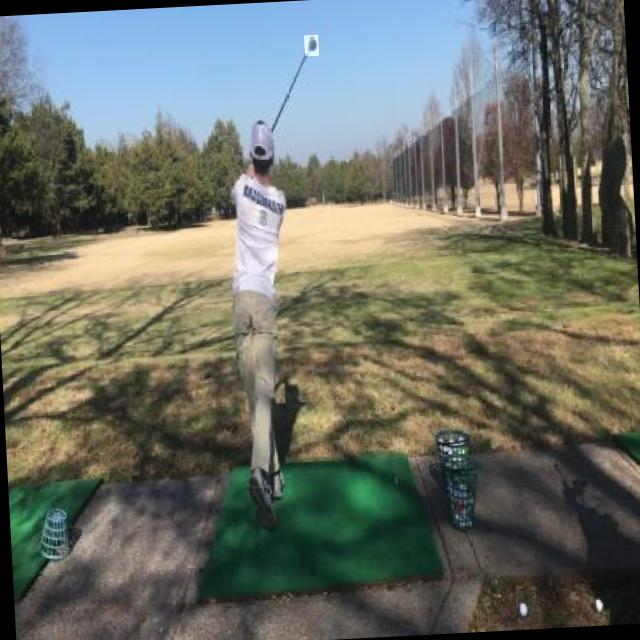club head: (304, 34, 319, 56)
